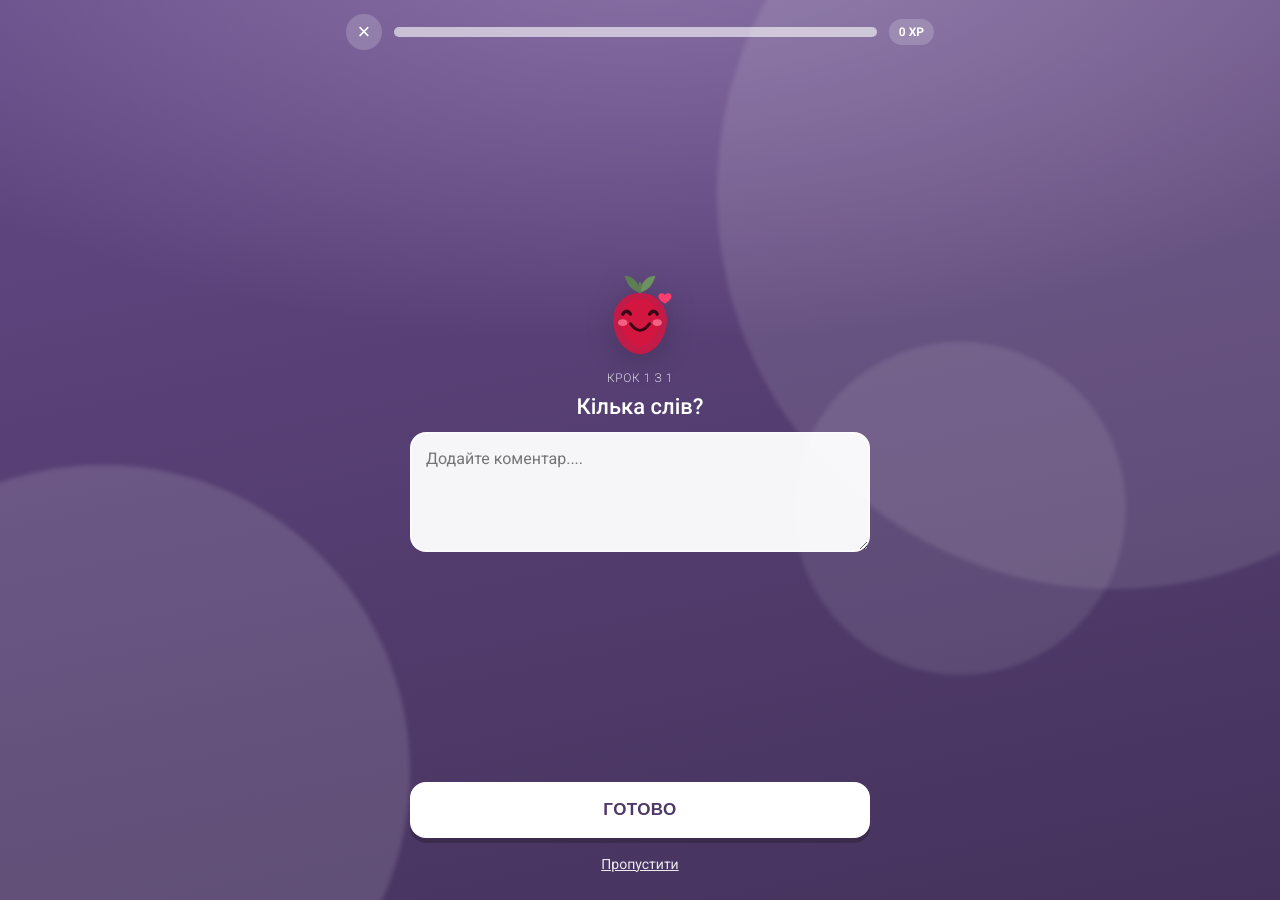
Scenario: the skip link appears on an empty optional step and disappears once it is filled
expect the button "Пропустити" is shown: met, box [589,842,691,886]
Type "смачно" into the text box at {"x": 640, "y": 492}, box [410,432,870,552]
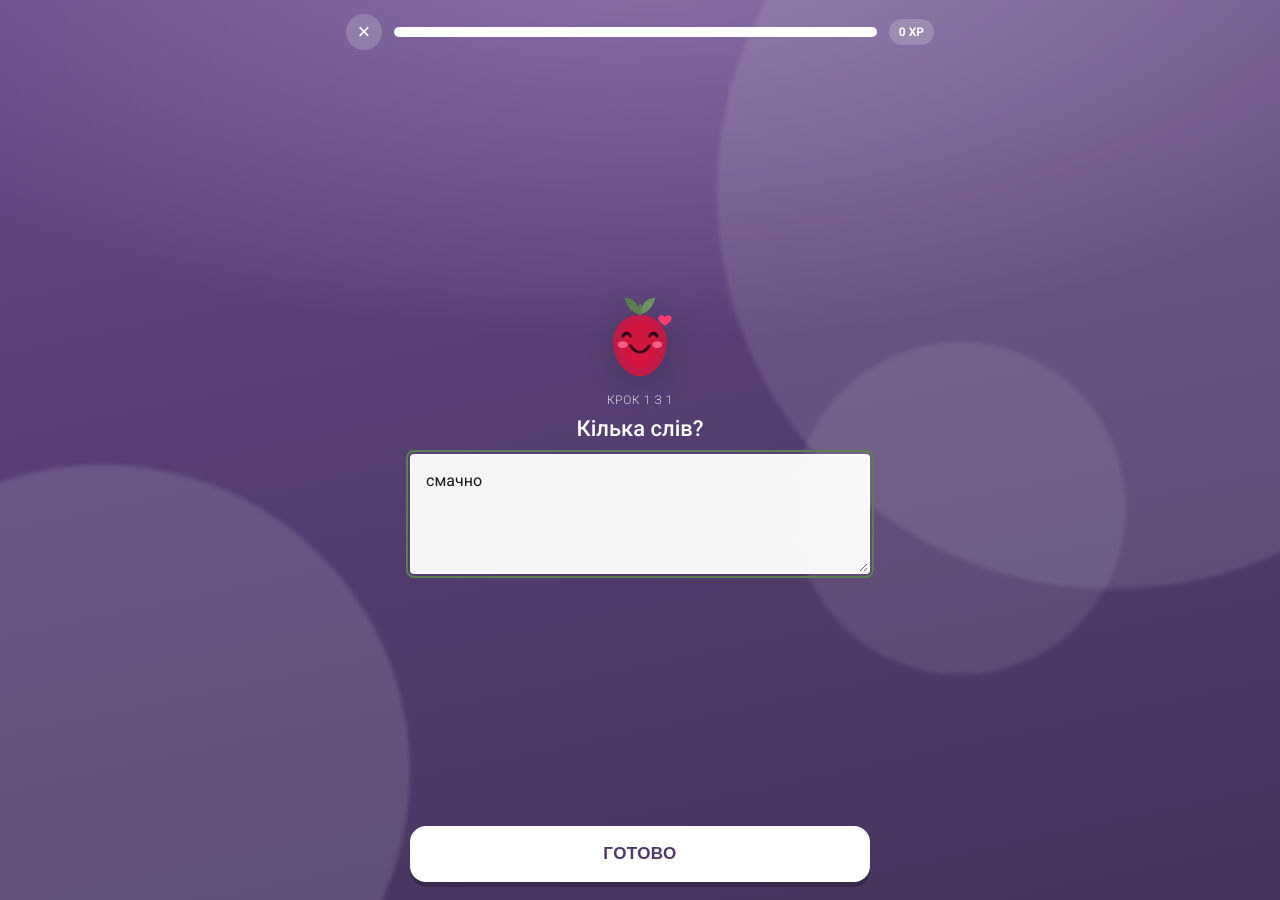
expect the button "Пропустити" is gone: met
